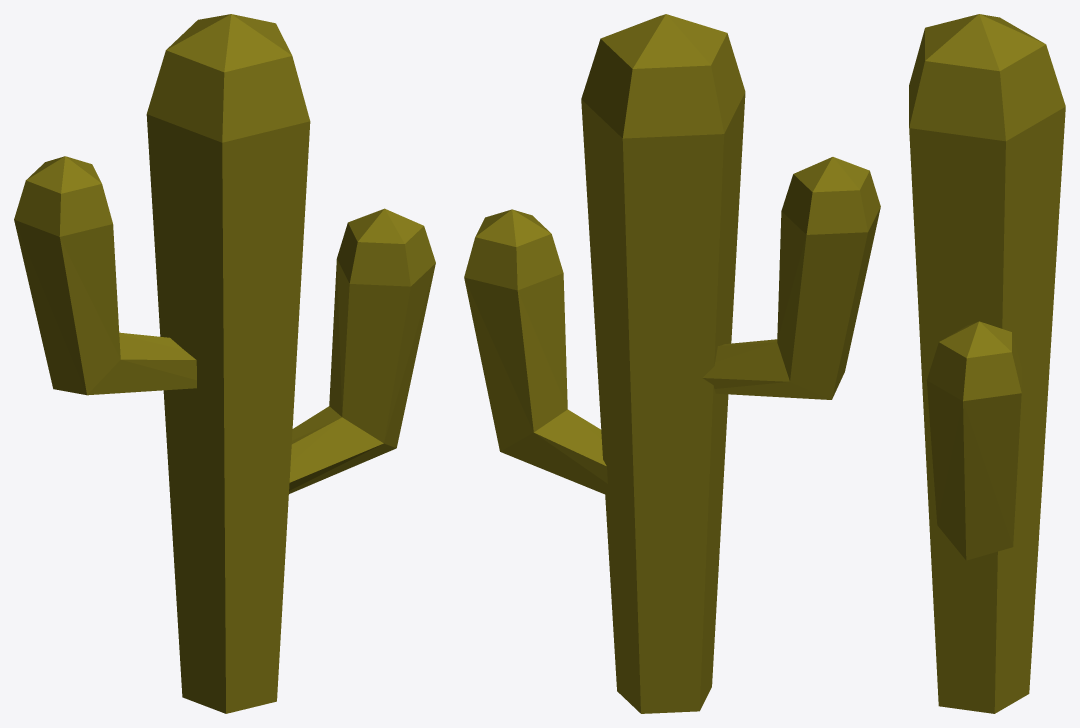
Rendered from Cactus3.fbx.
3 renders of one model, left to right at view 1: azimuth 30°, elevation 25°; view 2: azimuth 150°, elevation 25°; view 3: azimuth 270°, elevation 25°, orthographic.
Visible parts, largest first — view 1: Cactus3; view 2: Cactus3; view 3: Cactus3.
Part boxes in pixels (bbox=[...]): Cactus3: bbox=[14, 14, 435, 713]; Cactus3: bbox=[464, 14, 880, 713]; Cactus3: bbox=[909, 14, 1065, 713].
Size of the model in its own units: 78.88 by 126 by 26.34.
